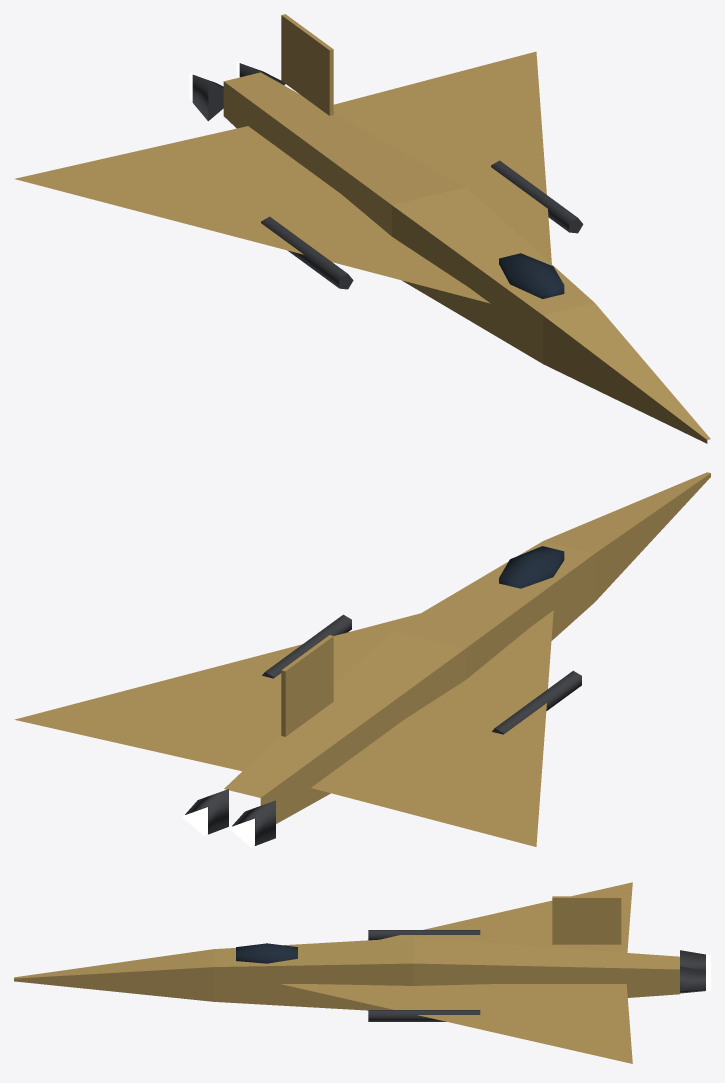
The model's file is space_ship_interceptor_mk7_lod2.glb.
3 views of the same model, one above another, from view 1: azimuth 30°, elevation 25°; view 2: azimuth 150°, elevation 25°; view 3: azimuth 270°, elevation 25° (orthographic). The views are drawn at different scales.
Parts seen in each view (by area): view 1: body, gun_r, gun_l, engine_0; view 2: body, engine_1, engine_0, gun_r, gun_l; view 3: body, gun_l, engine_1, gun_r, engine_0.
Boxes of the visible parts, bbox=[...] form: body: bbox=[14, 14, 710, 443]; gun_r: bbox=[261, 216, 353, 289]; gun_l: bbox=[491, 160, 583, 233]; engine_0: bbox=[189, 73, 223, 121]; body: bbox=[14, 472, 710, 846]; engine_1: bbox=[182, 789, 228, 835]; engine_0: bbox=[230, 800, 275, 847]; gun_r: bbox=[492, 670, 581, 734]; gun_l: bbox=[262, 614, 351, 678]; body: bbox=[14, 882, 679, 1063]; gun_l: bbox=[368, 1010, 480, 1021]; engine_1: bbox=[680, 966, 710, 993]; gun_r: bbox=[368, 930, 480, 940]; engine_0: bbox=[680, 950, 710, 971].
Size of the model in its own units: 10 by 2.65 by 16.2.
